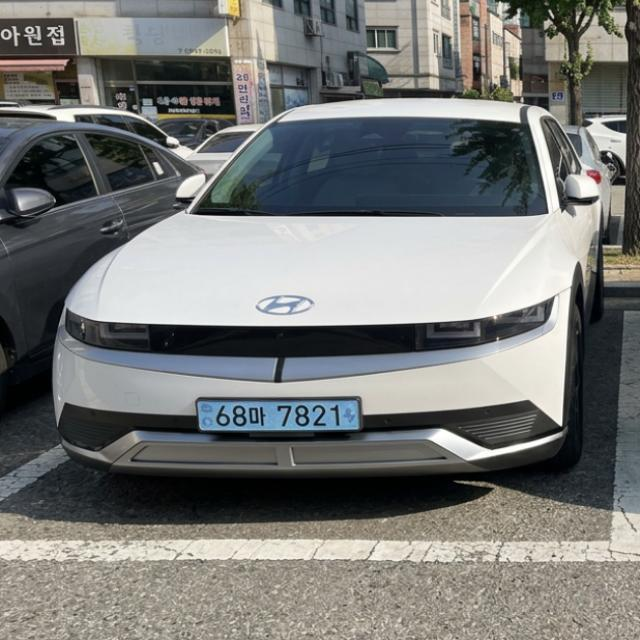car: (177, 391, 378, 447)
carev: (341, 395, 361, 436), (198, 398, 215, 435)
